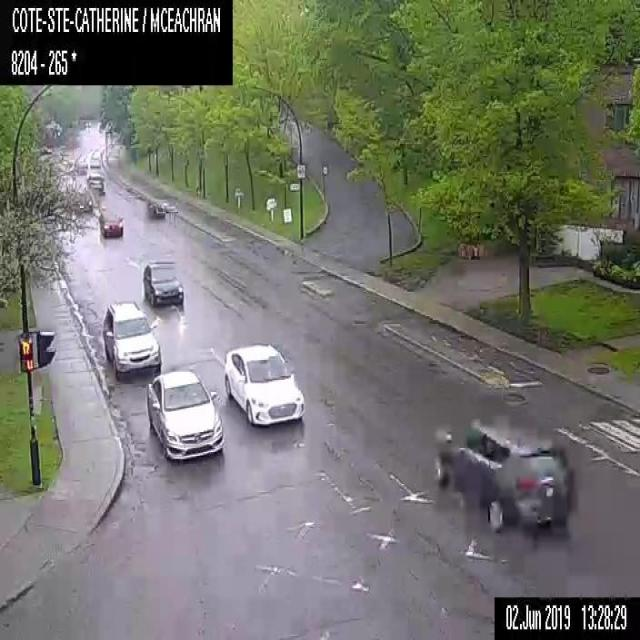vehicle: (434, 421, 574, 531), (146, 366, 224, 460), (222, 342, 304, 427), (103, 298, 162, 380), (142, 258, 182, 306), (98, 208, 124, 236), (146, 197, 164, 216), (86, 172, 103, 192), (89, 154, 100, 167)
